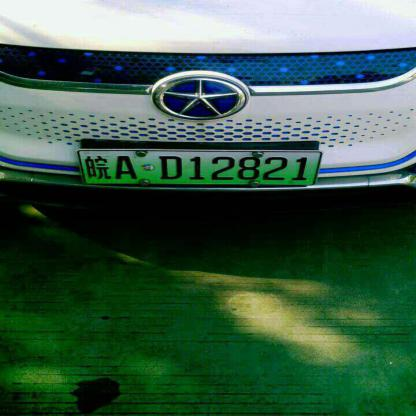lp: (77, 151, 322, 184)
